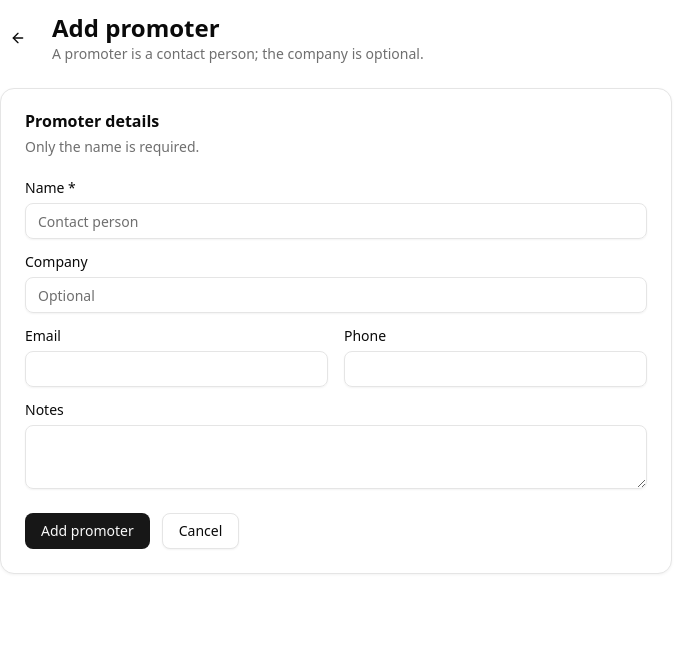
Test case: validates before calling the server and keeps the draft
The image size is (689, 653).
Type "Nightwave Srl" into the field labelled "Company" at (336, 295), box [25, 277, 647, 313]
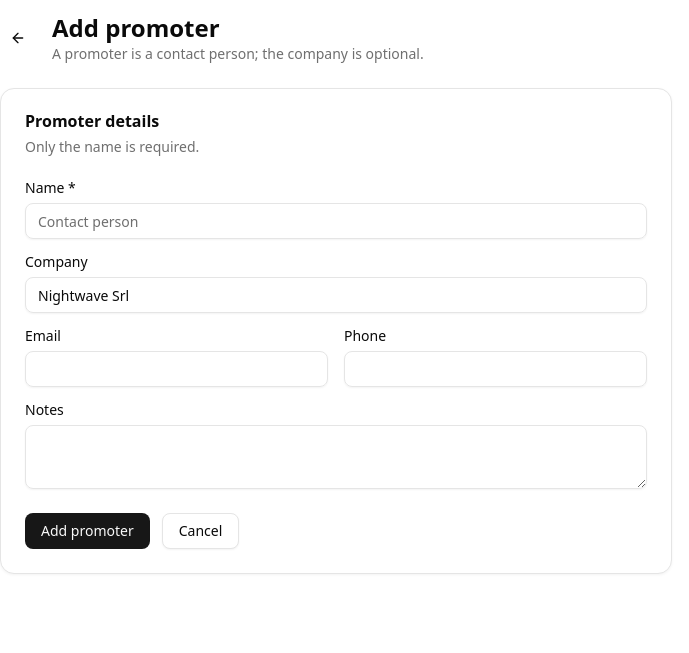
Click the button "Add promoter" at (87, 531), box [25, 513, 150, 549]
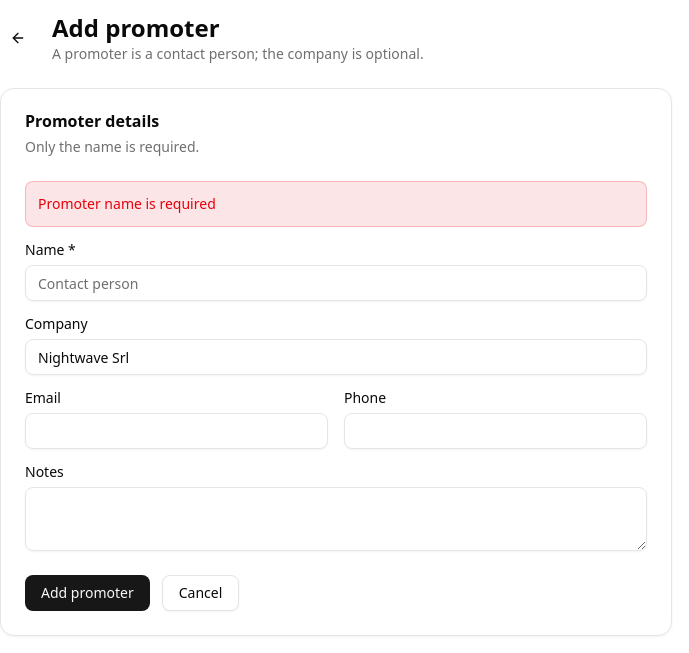
Now the message reads "Promoter name is required", box [38, 194, 216, 213]
